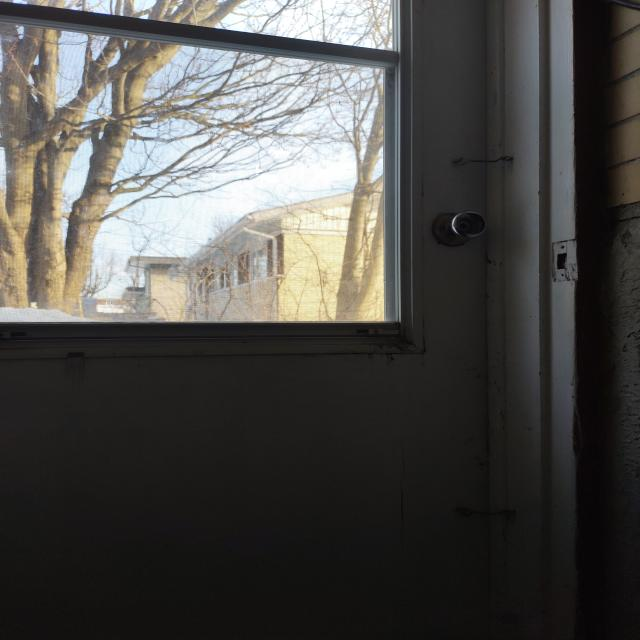door-knob: (431, 211, 486, 246)
